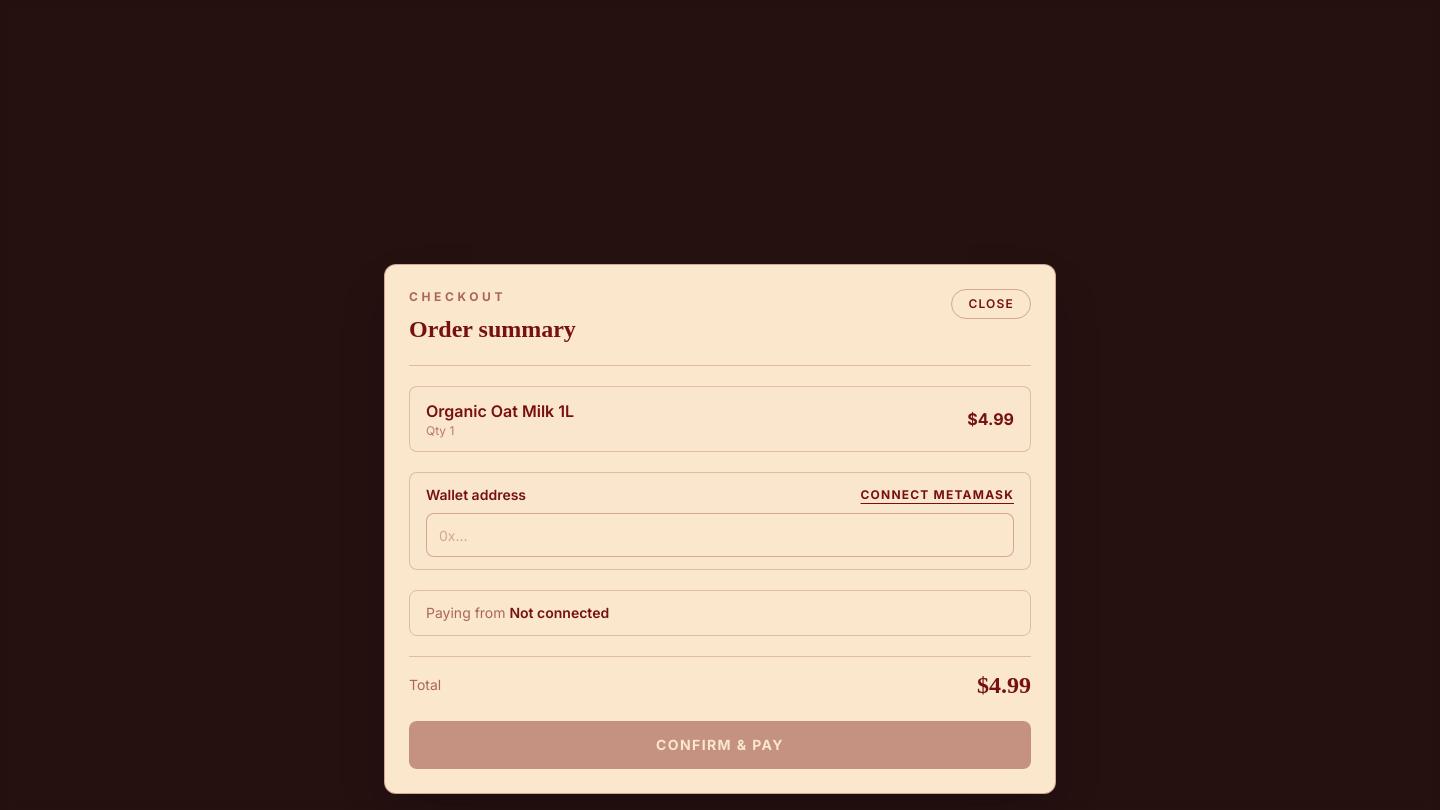
it: CheckoutModal › connects a browser wallet from the modal
Click the button "Connect MetaMask".
click(937, 495)  # box [860,487,1014,503]
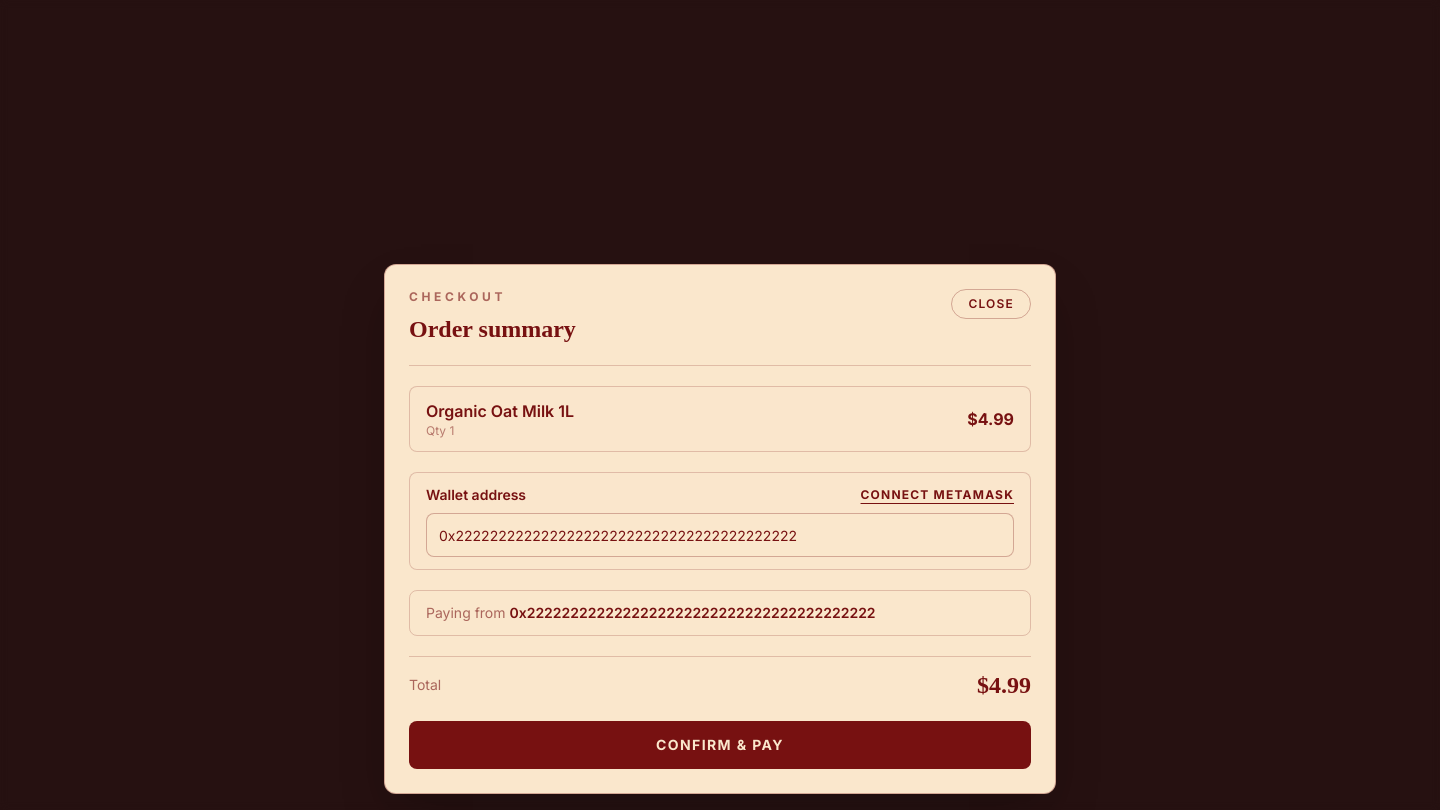
Result: the field showing "0x2222222222222222222222222222222222222222" is shown at [426,513,1014,557]
